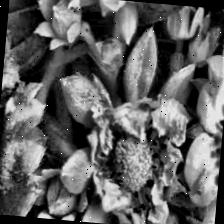Blossom Blight: (92, 112, 172, 216)
